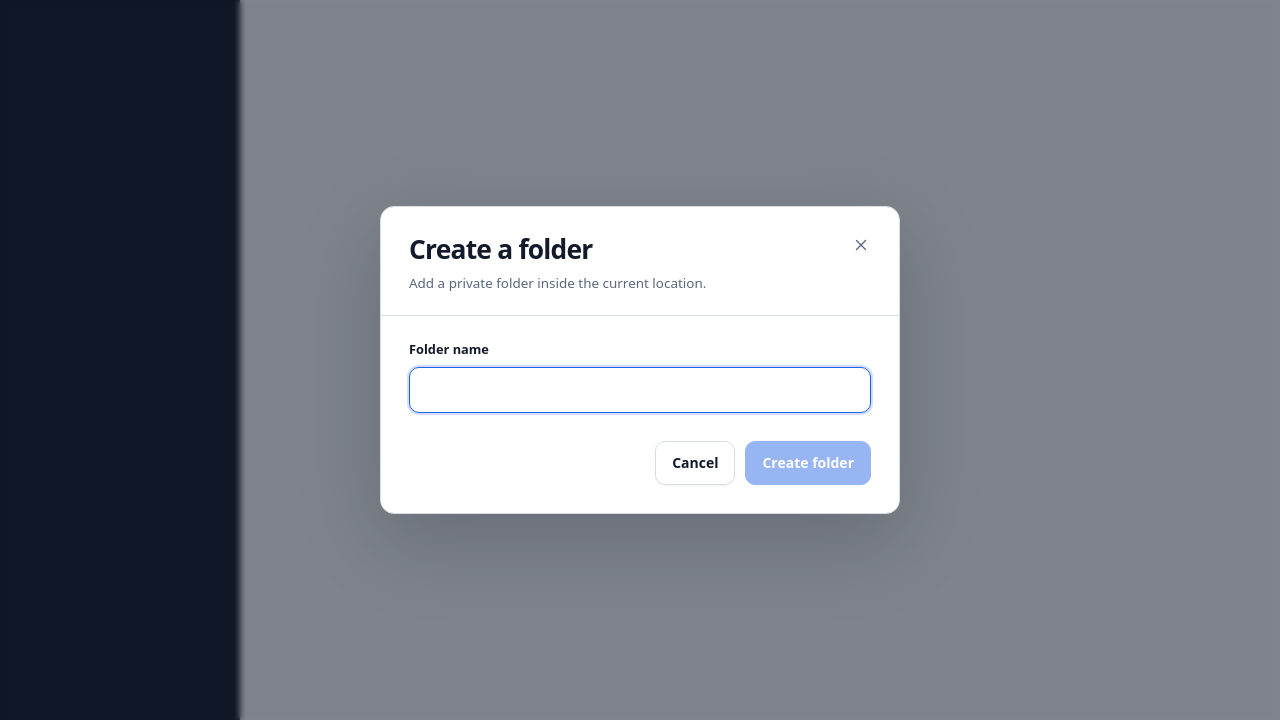
Test case: management dialogs › keeps the create name after a conflict and offers the canonical suggestion
Type "  Legal  " into the field labelled "Folder name" at (640, 390), box top-left (409, 367), bottom-right (871, 413)
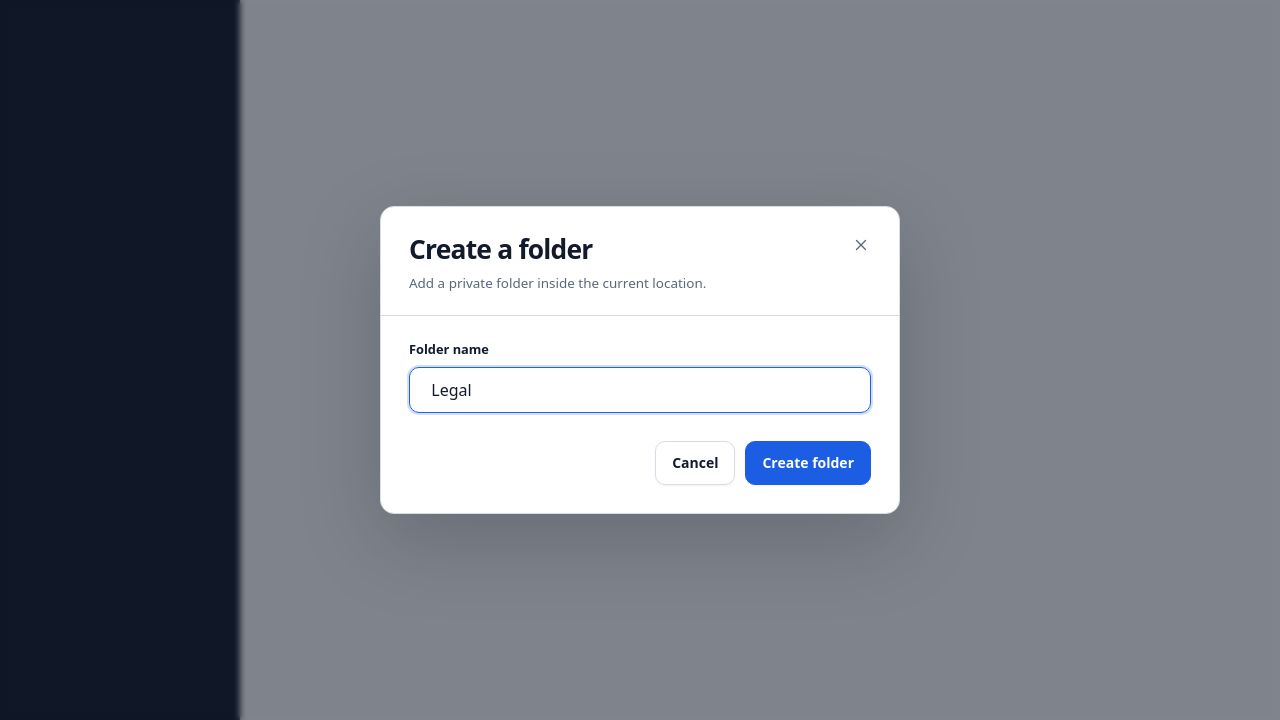
Click the button "Create folder" at (808, 463), box top-left (745, 441), bottom-right (871, 485)
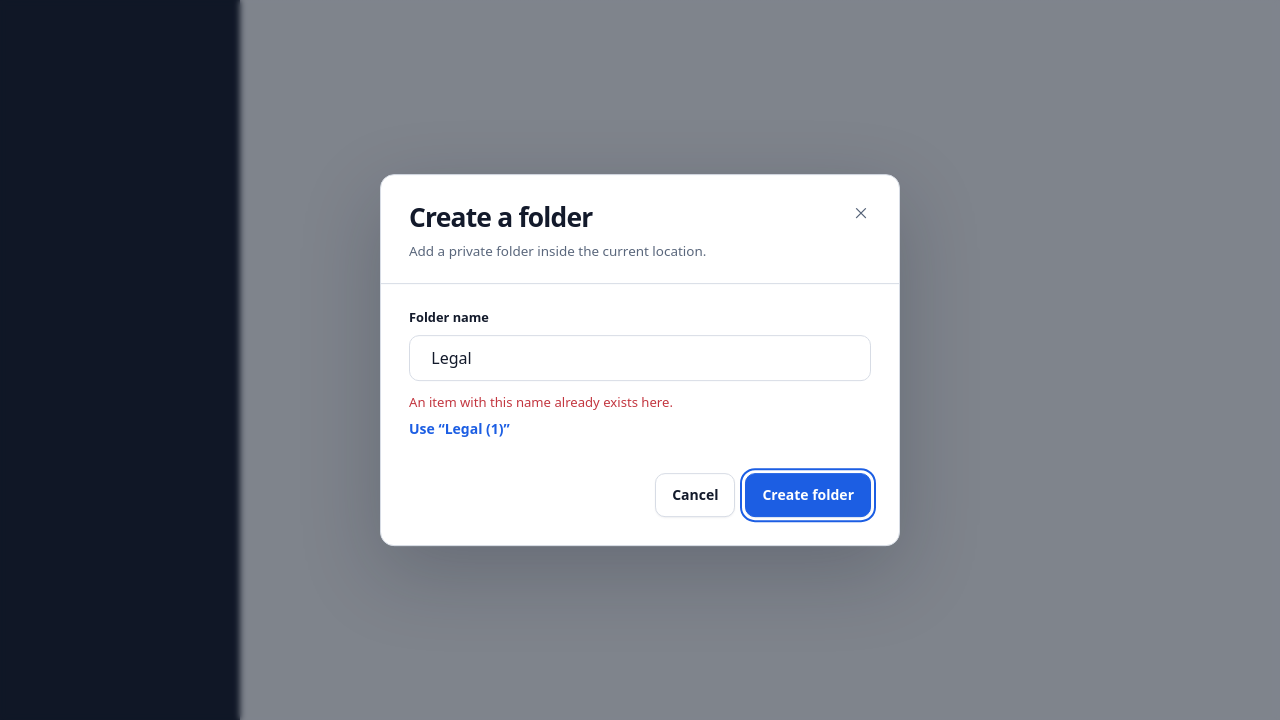
Expected: the message shows "already exists", top-left (409, 393), bottom-right (673, 411)
Click the button "Use “Legal (1)”" at (459, 429), box top-left (409, 413), bottom-right (510, 445)
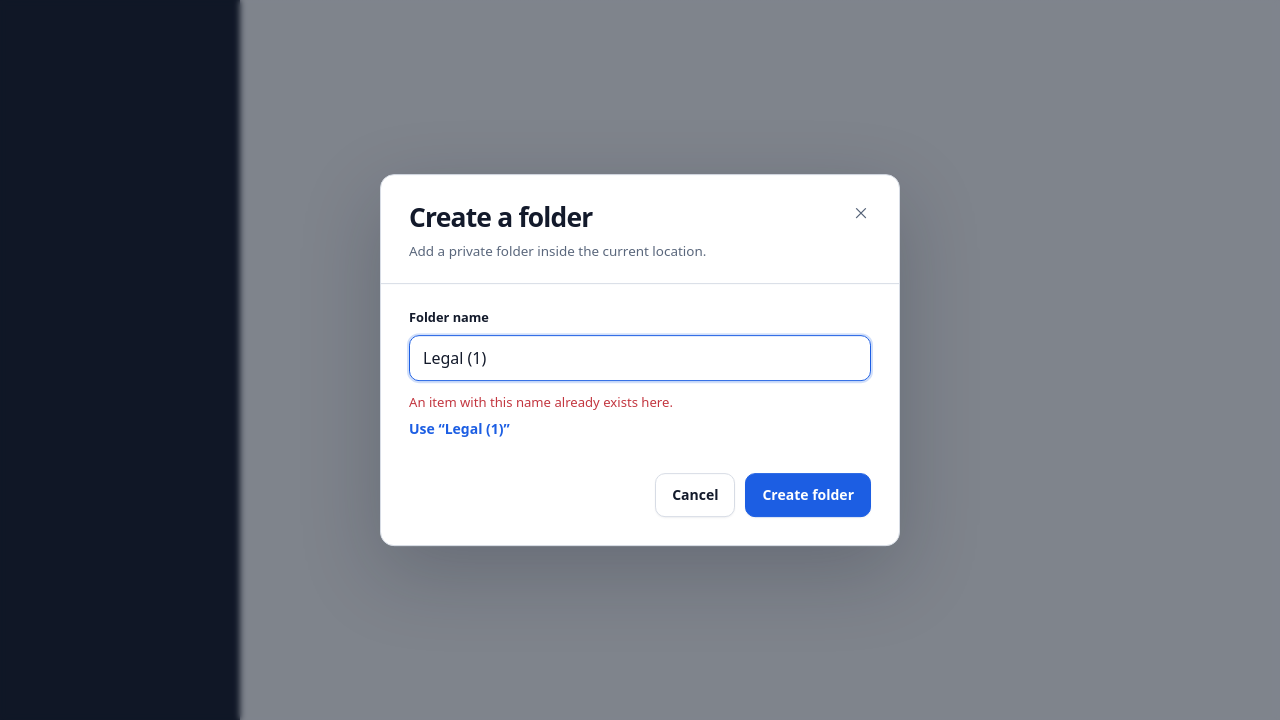
Expected: the field labelled "Folder name" holds "Legal (1)", top-left (409, 335), bottom-right (871, 381)
